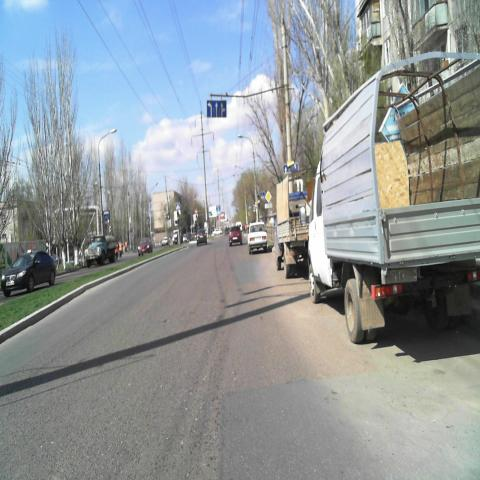6_15_1: (283, 162, 299, 172)
